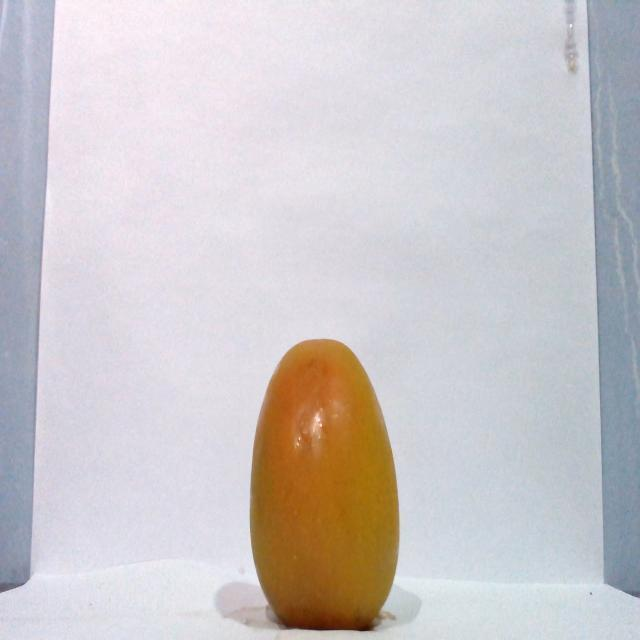Red: (247, 336, 401, 630)
